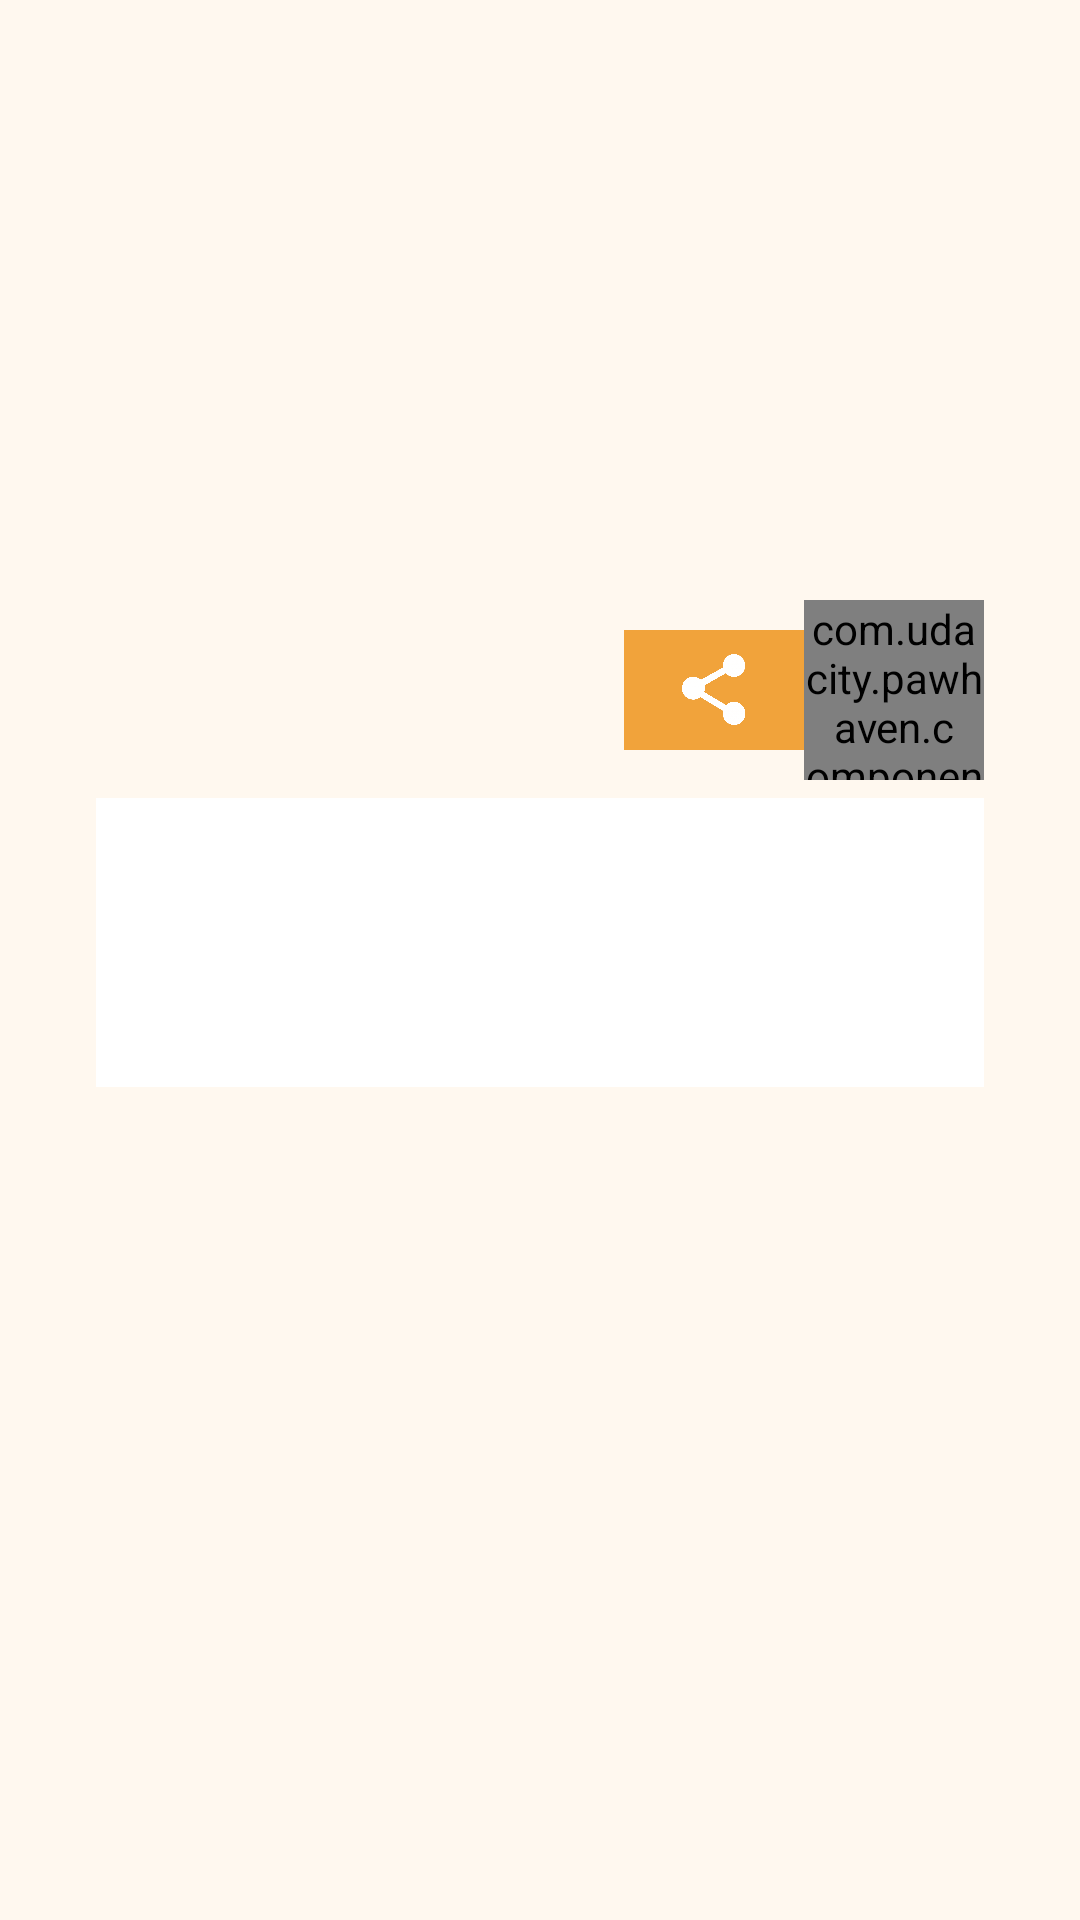

Point at icon controls on the screen. Image size 1080*1920, points as (x,y).
Share: (714,690)
